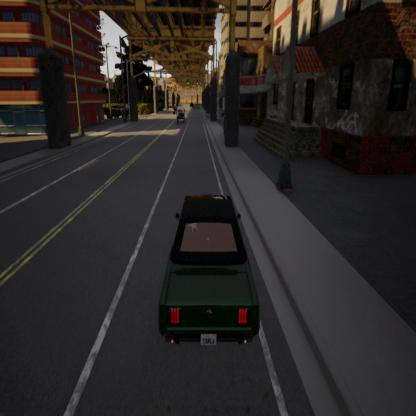Cars: (158, 196, 260, 346), (104, 103, 128, 120), (176, 105, 186, 123), (176, 110, 179, 125), (173, 106, 176, 115)
Pedestrian: (222, 113, 226, 138)
